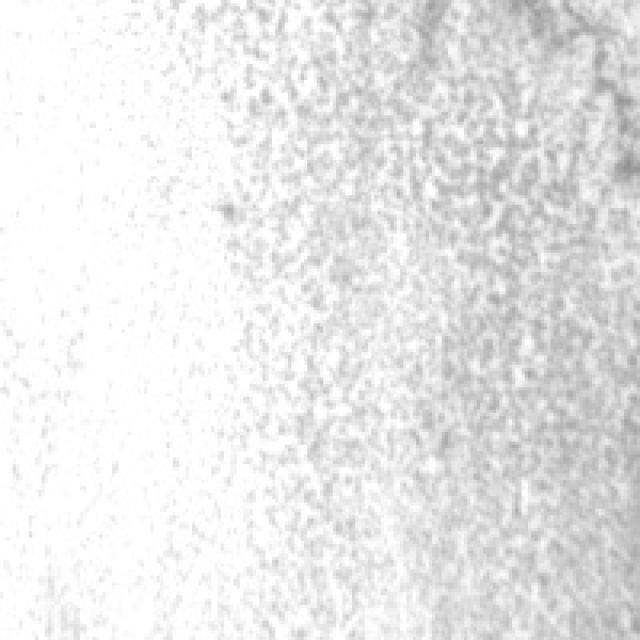pitted_surface: (179, 0, 634, 634)
